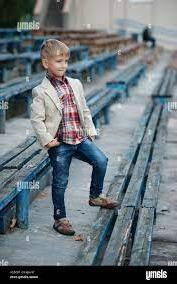Human: (25, 40, 133, 251)
